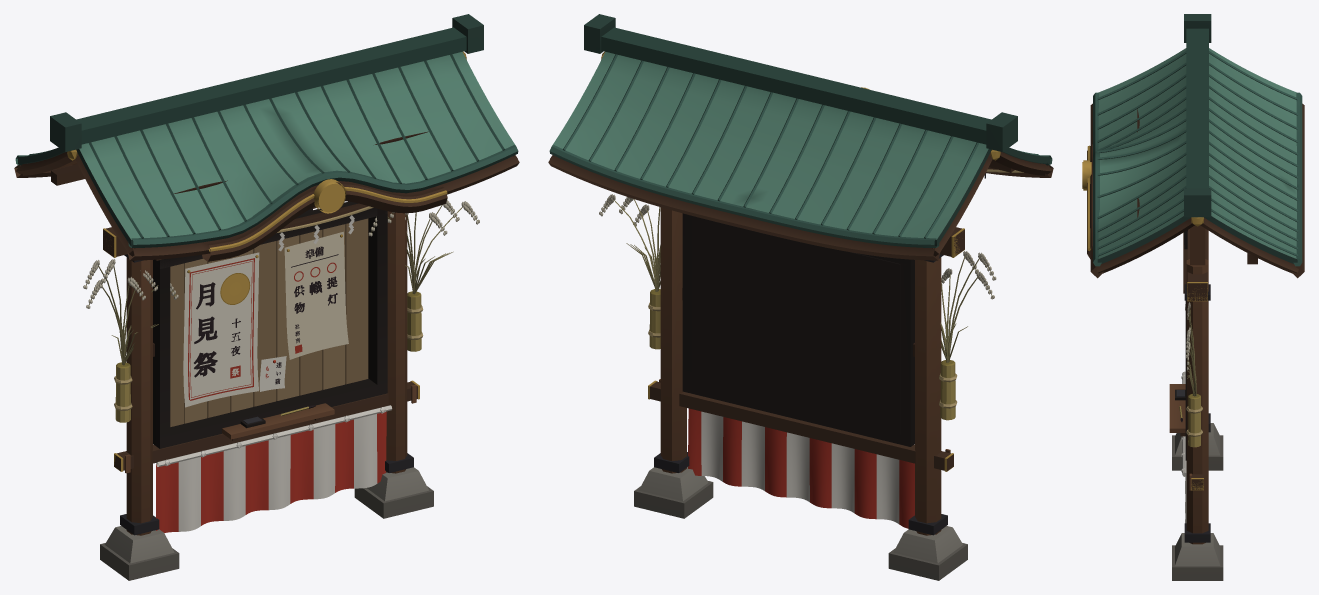
The model's file is festival_board.glb.
3 renders of one model, left to right at view 1: azimuth 30°, elevation 25°; view 2: azimuth 150°, elevation 25°; view 3: azimuth 270°, elevation 25°, orthographic. The views are drawn at different scales.
Visible parts, largest first — view 1: board, board_paint; view 2: board, board_paint; view 3: board.
Boxes of the visible parts, x1,y1,x2,y2 form: board: (14, 14, 519, 580); board_paint: (156, 231, 386, 532); board: (548, 14, 1053, 580); board_paint: (688, 408, 914, 528); board: (1082, 14, 1304, 580).
Size of what is drawn, in the model's own units: 2.83 by 2.98 by 1.47.
